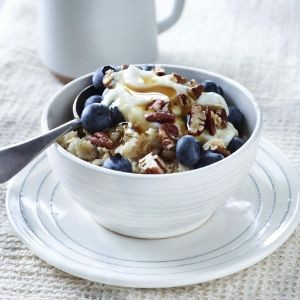oat_brain food: (84, 107, 137, 163)
